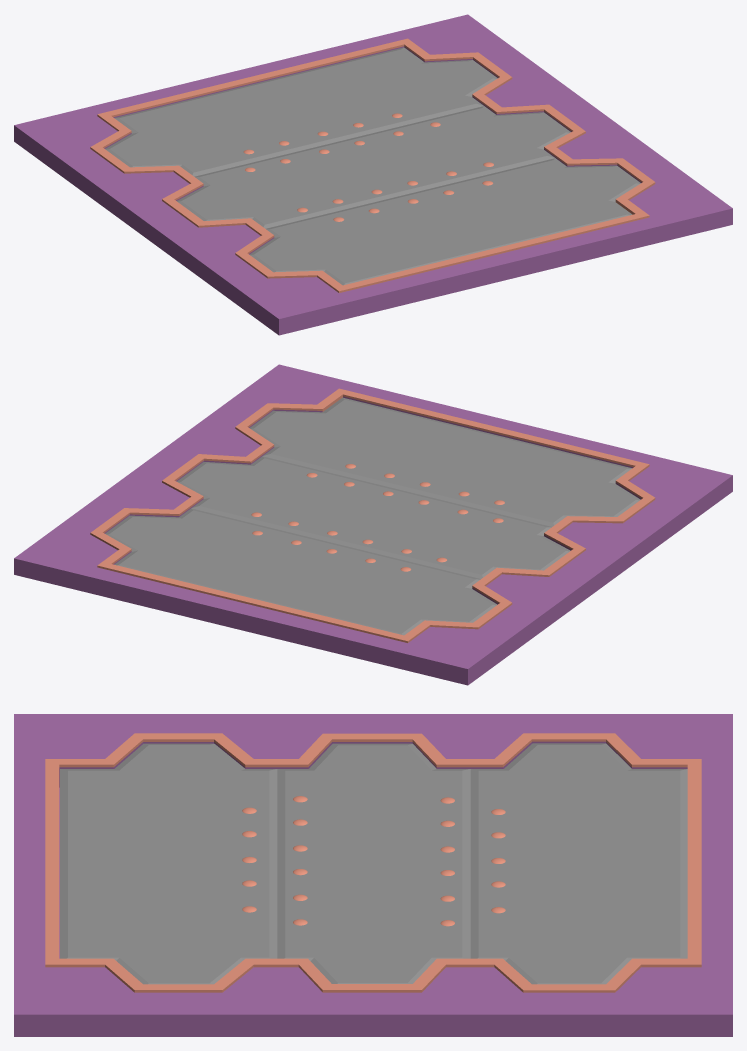
Rendered from floor_tier18.fbx.
3 views of the same model, one above another, from view 1: azimuth 30°, elevation 25°; view 2: azimuth 150°, elevation 25°; view 3: azimuth 270°, elevation 25° (orthographic). The views are drawn at different scales.
Visible parts, largest first — view 1: Bolt.008, Cube.002; view 2: Bolt.008, Cube.002; view 3: Bolt.008, Cube.002.
Part boxes in pixels (left/top/right/bottom): Bolt.008: left=105, top=47, right=640, bottom=285; Cube.002: left=14, top=14, right=732, bottom=335; Bolt.008: left=105, top=397, right=640, bottom=635; Cube.002: left=14, top=364, right=732, bottom=685; Bolt.008: left=60, top=743, right=687, bottom=984; Cube.002: left=14, top=714, right=732, bottom=1036.
Size of the model in its own units: 654 by 25.15 by 662.
